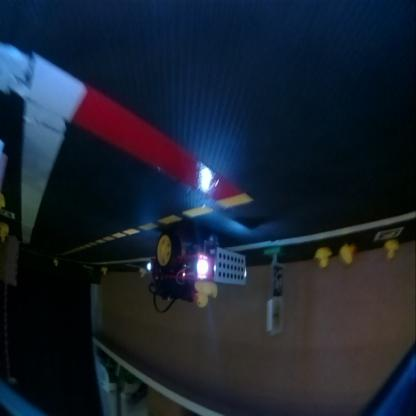Duckie: (193, 284, 216, 306), (340, 242, 356, 264), (314, 248, 330, 269), (384, 240, 395, 260), (100, 268, 104, 276), (52, 260, 58, 264)
Duckiebot: (150, 233, 244, 300)
Intersection sign: (272, 300, 282, 330)
QR code: (272, 265, 282, 295)
